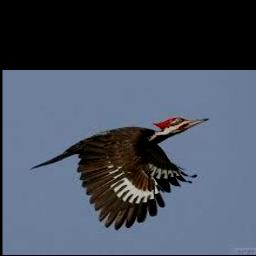Woodpecker: (31, 116, 208, 230)
